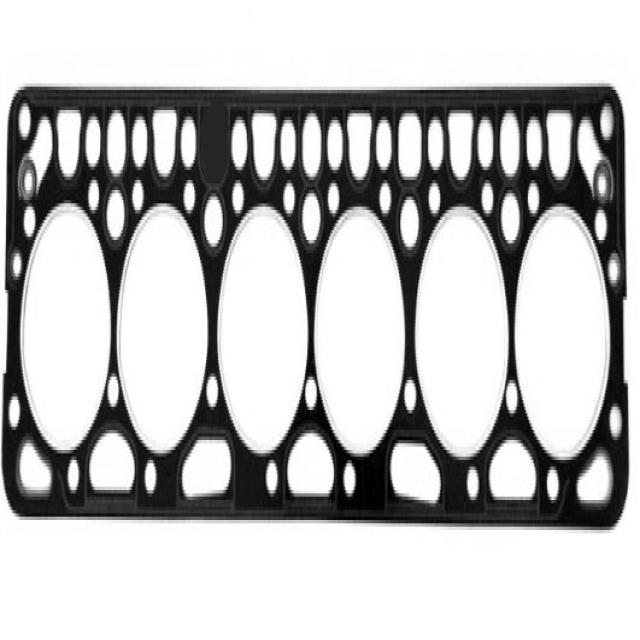missing hole: (191, 80, 235, 207)
